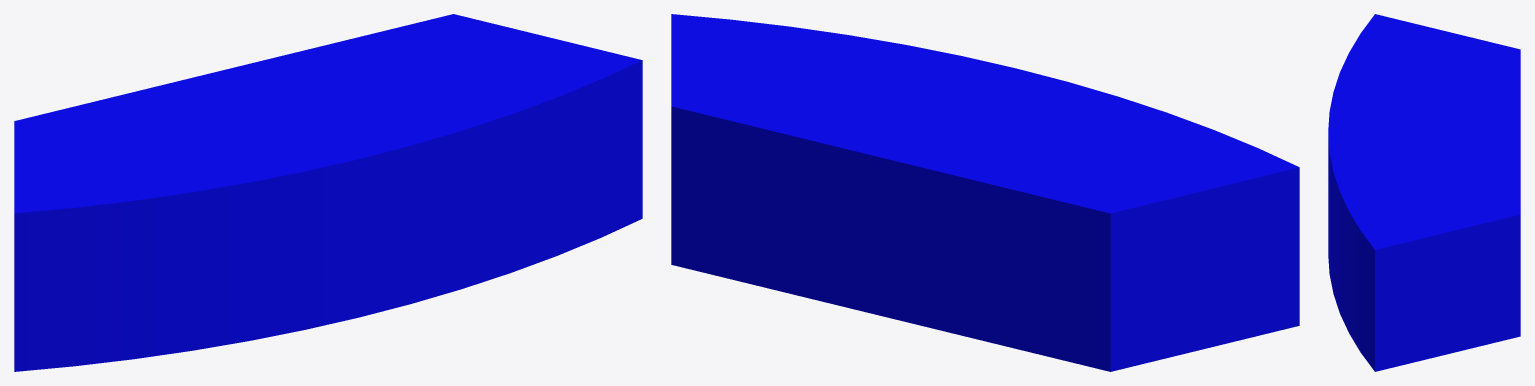
Rendered from azul.obj.
3 views of the same model, side by side, from view 1: azimuth 30°, elevation 25°; view 2: azimuth 150°, elevation 25°; view 3: azimuth 270°, elevation 25° (orthographic). The views are drawn at different scales.
Visible parts, largest first — view 1: Mesh1 Group1 Model; view 2: Mesh1 Group1 Model; view 3: Mesh1 Group1 Model.
Boxes of the visible parts, bbox=[...] form: Mesh1 Group1 Model: bbox=[14, 14, 642, 371]; Mesh1 Group1 Model: bbox=[671, 14, 1299, 371]; Mesh1 Group1 Model: bbox=[1328, 14, 1520, 371].
Bounding box in the file's own units: 85.1 × 20.5 × 29.34.
